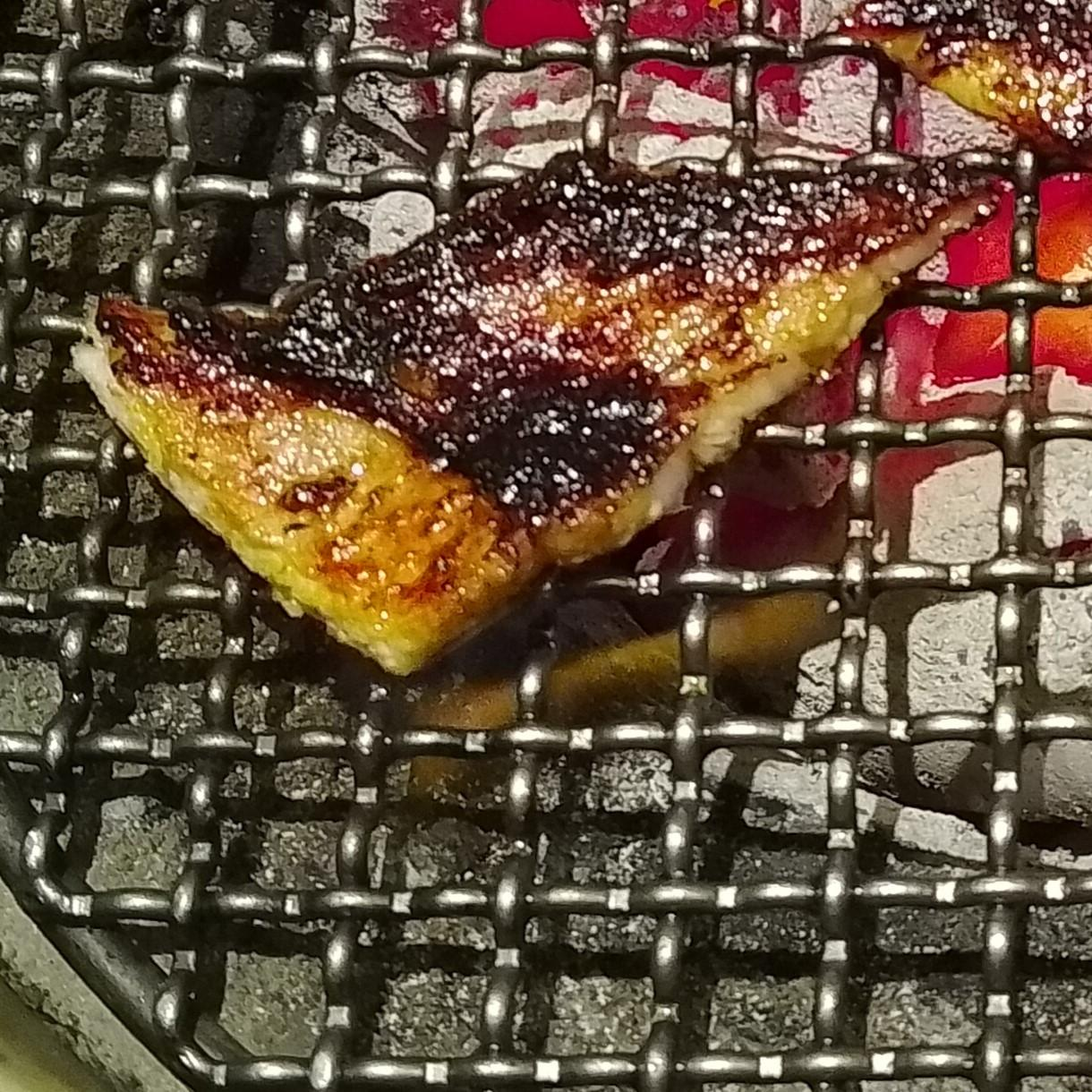Overcooked: (73, 151, 1009, 675)
